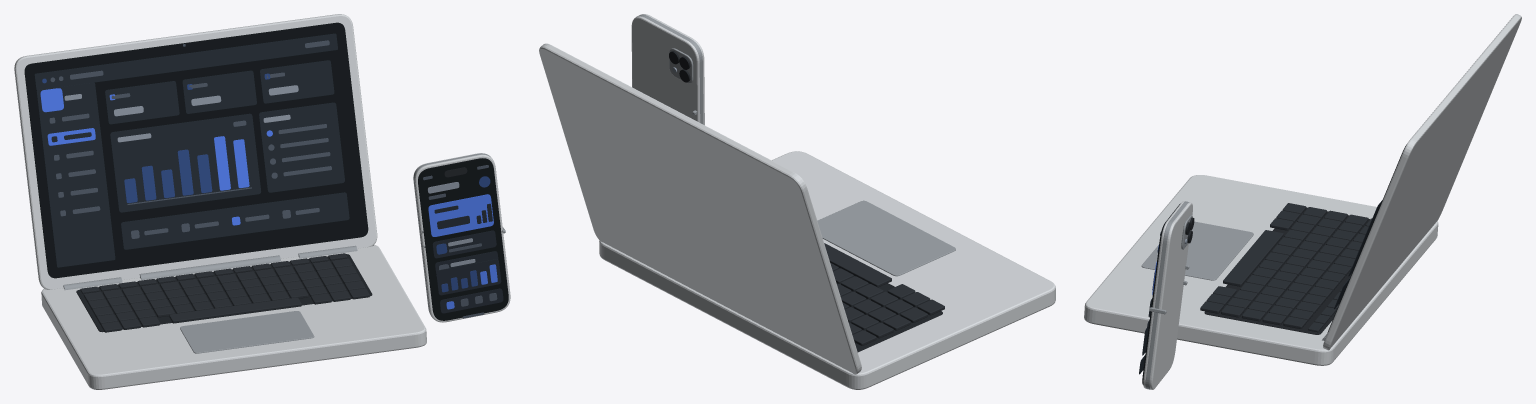
Rendered from devices.glb.
3 views of the same model, side by side, from view 1: azimuth 30°, elevation 25°; view 2: azimuth 150°, elevation 25°; view 3: azimuth 270°, elevation 25° (orthographic). The views are drawn at different scales.
Parts seen in each view (by area): view 1: laptop_base; view 2: laptop_base; view 3: laptop_base.
Boxes of the visible parts, x1=… form: laptop_base: x1=14, y1=14, x2=510, y2=389; laptop_base: x1=539, y1=14, x2=1055, y2=389; laptop_base: x1=1084, y1=14, x2=1521, y2=389.
Bounding box in the file's own units: 0.4023 × 0.2221 × 0.3608.
Materials: 1 (1 with a texture image).
